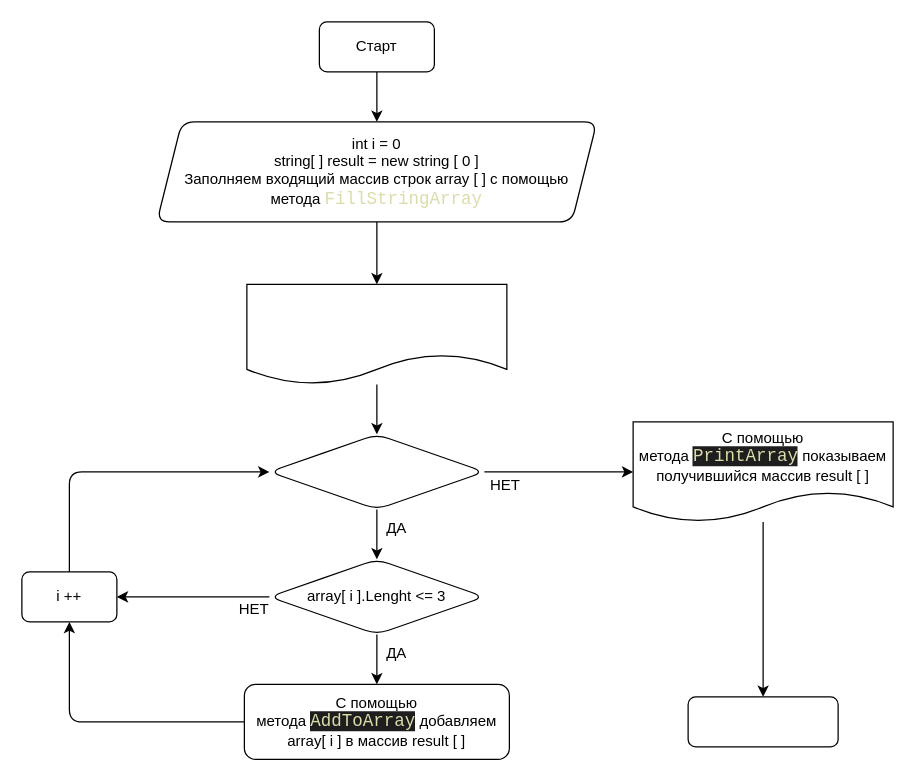
Image size: 915x781. Some labels were removed from this diagram. Each missing label, with the centre of its shape:
while i < array.Lenght: point 376,471
Конец программы: point 762,721
С помощью метода PrintArray показываем получившийся массив array [ ]: point 376,333
